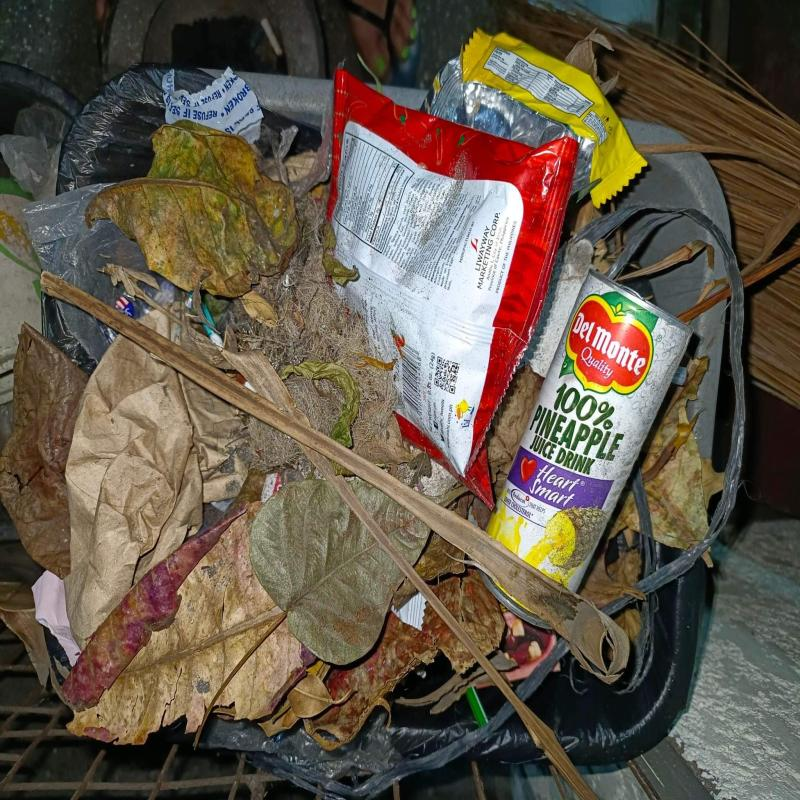aluminum: (475, 269, 695, 630)
food wrapper: (325, 69, 581, 509), (419, 28, 649, 207)
paper: (63, 335, 251, 651), (521, 241, 593, 378), (31, 572, 81, 668)
plastic bag: (22, 180, 153, 362)
treeleaves: (39, 271, 630, 683), (181, 309, 601, 800), (227, 198, 474, 506), (192, 475, 431, 752), (61, 501, 317, 745), (576, 352, 734, 607), (86, 118, 302, 297), (302, 571, 506, 749), (0, 323, 90, 579), (678, 202, 800, 324), (394, 494, 492, 612), (486, 362, 546, 506), (401, 651, 517, 714), (639, 142, 800, 184), (286, 68, 335, 197), (260, 675, 356, 735), (620, 241, 714, 277)
